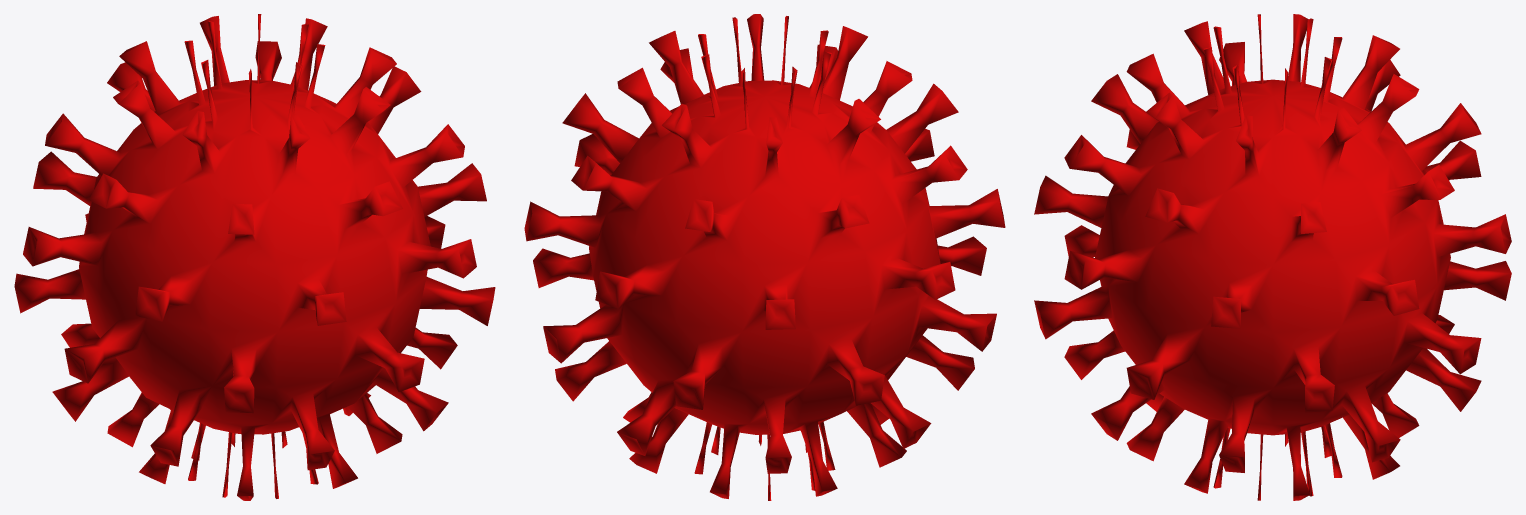
File: covid.glb
3 renders of one model, left to right at view 1: azimuth 30°, elevation 25°; view 2: azimuth 150°, elevation 25°; view 3: azimuth 270°, elevation 25°, orthographic.
Visible parts, largest first — view 1: sphere1; view 2: sphere1; view 3: sphere1.
Boxes of the visible parts, x1,y1,x2,y2 form: sphere1: (14,14,495,500); sphere1: (524,14,1005,500); sphere1: (1034,14,1511,500).
Bounding box in the file's own units: 0.2683 × 0.2671 × 0.2683.
